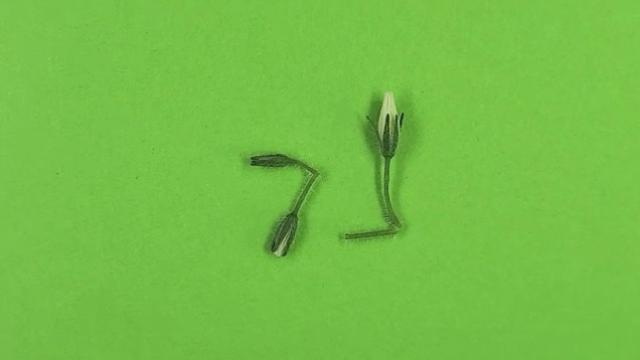Flower Bud: (377, 91, 403, 154), (270, 213, 298, 257), (249, 154, 300, 168)
